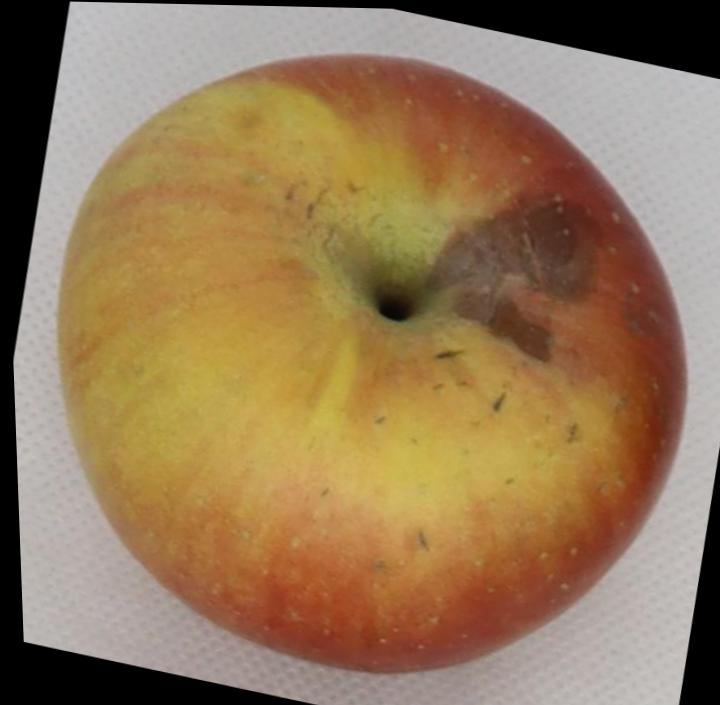apple: (59, 54, 686, 671), (59, 54, 685, 671)
rot_mold_decay: (425, 202, 595, 361)
surface_damage: (493, 392, 506, 409), (418, 530, 429, 550), (435, 350, 462, 358), (569, 422, 579, 442), (376, 416, 386, 423)
